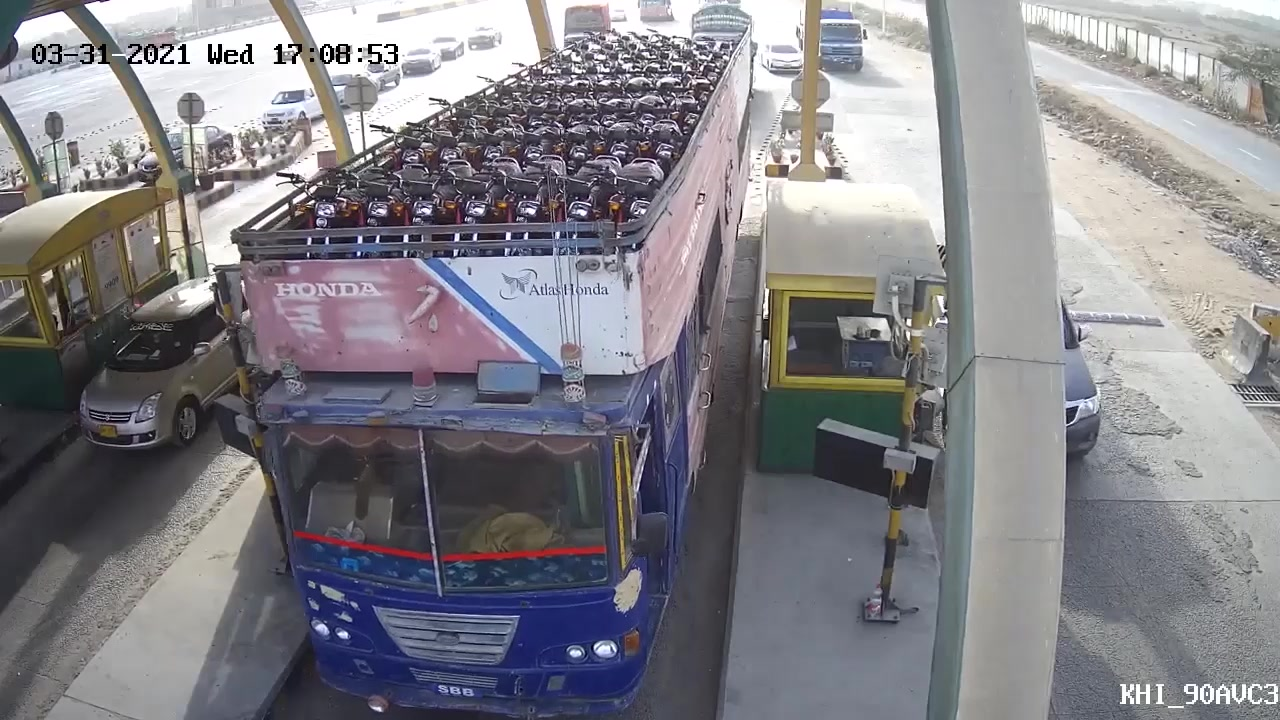F5: (230, 21, 770, 712)
